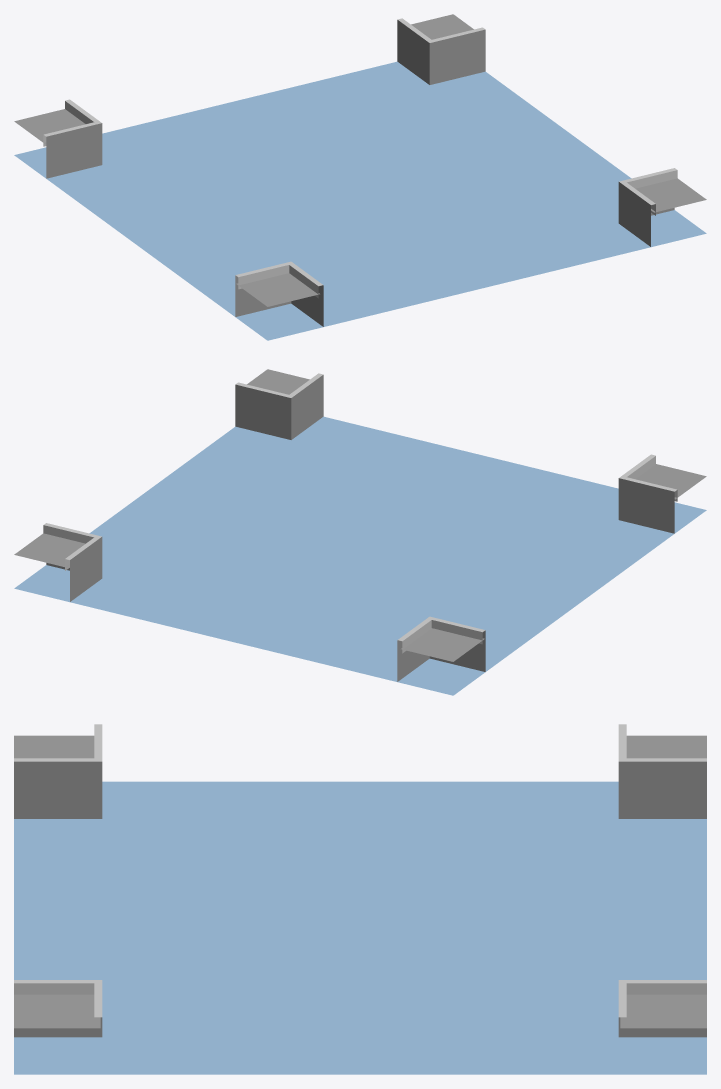
Rendered from road_tile_river_2x2_005.fbx.
3 views of the same model, one above another, from view 1: azimuth 30°, elevation 25°; view 2: azimuth 150°, elevation 25°; view 3: azimuth 270°, elevation 25° (orthographic). The views are drawn at different scales.
Visible parts, largest first — view 1: road_tile_river_2x2_005; view 2: road_tile_river_2x2_005; view 3: road_tile_river_2x2_005.
Part boxes in pixels (x1,y1,x2,y2): road_tile_river_2x2_005: (14, 14, 706, 340); road_tile_river_2x2_005: (14, 369, 706, 695); road_tile_river_2x2_005: (14, 724, 706, 1074).
Bounding box in the file's own units: 1600 × 146 × 1600.
